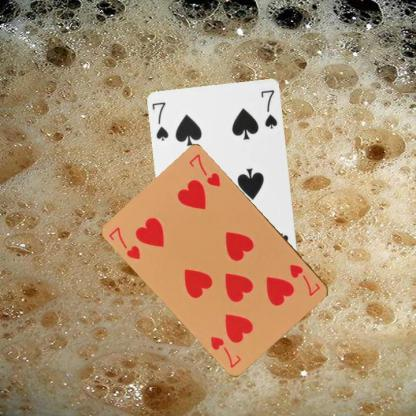7h: (106, 224, 142, 261), (287, 260, 322, 298)
7s: (150, 100, 170, 142)
